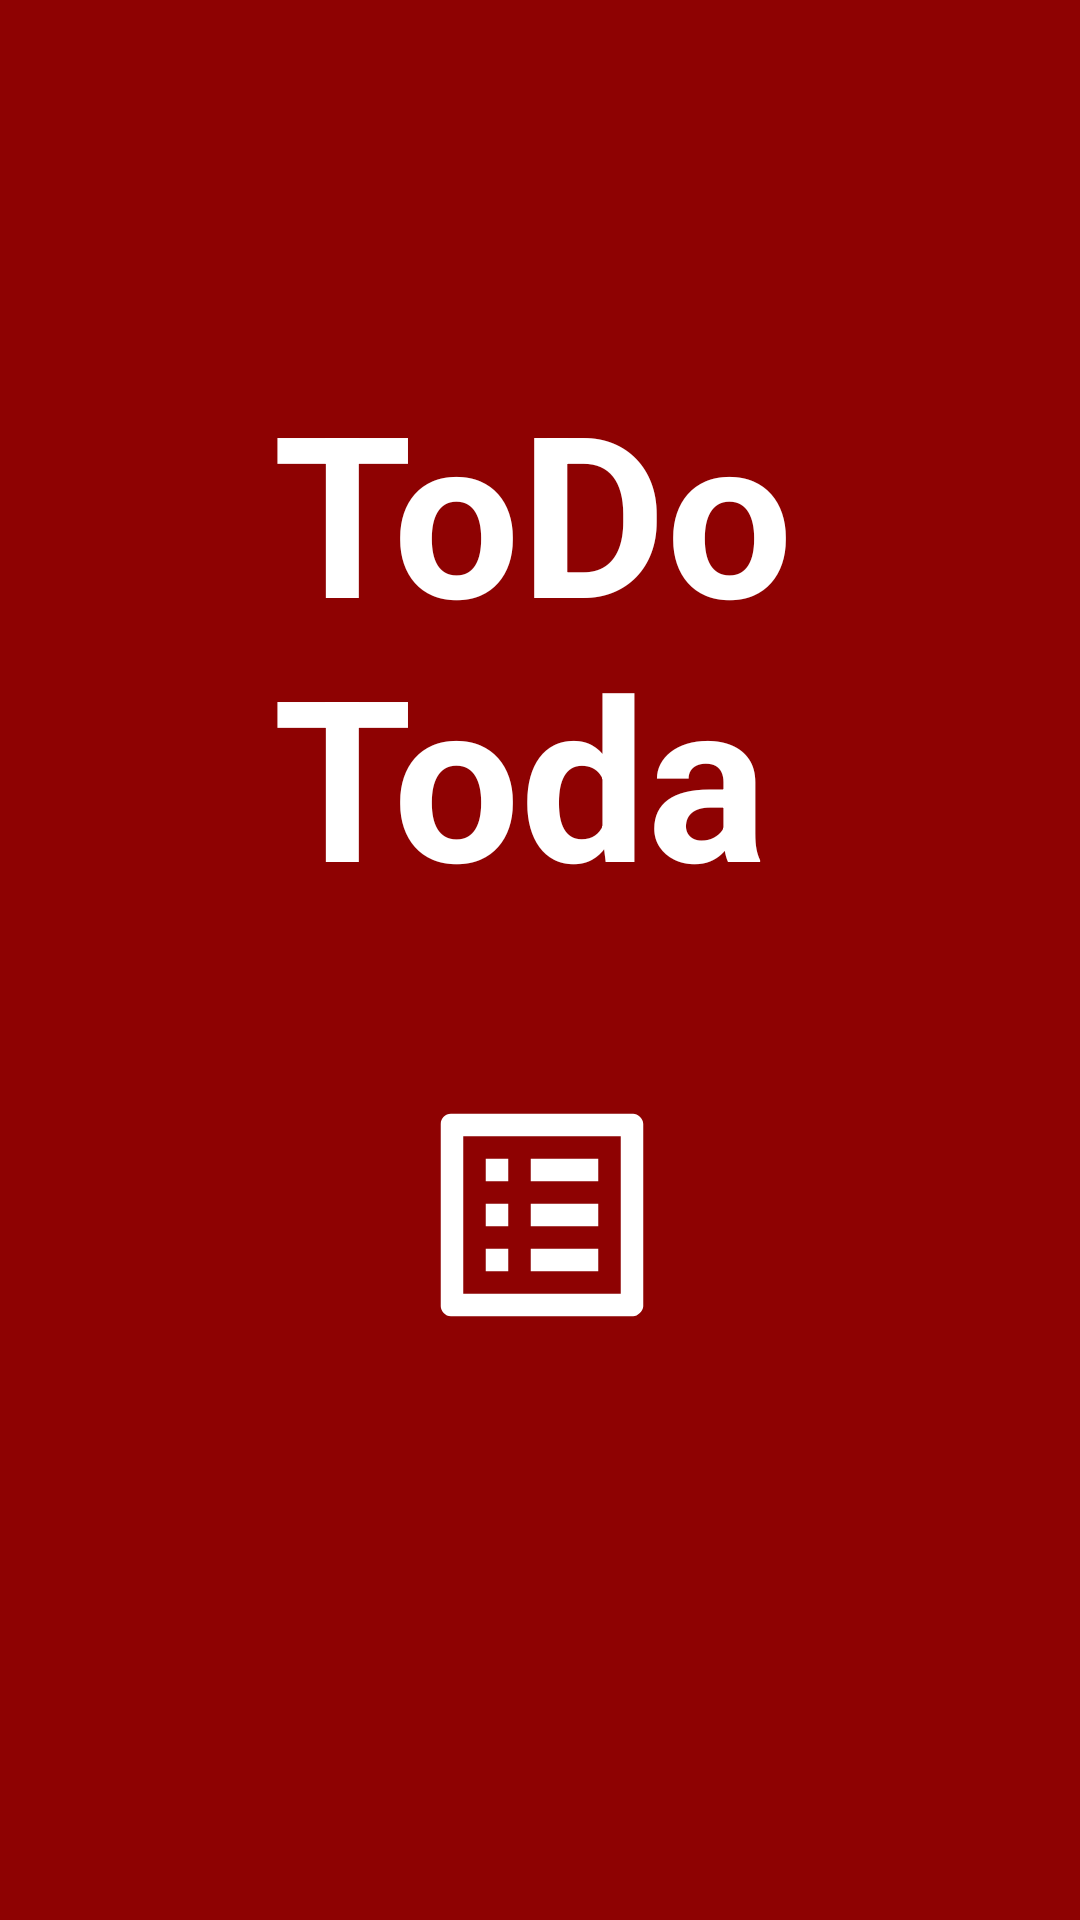

Where icons sit on this 1080×1920 app screen, as {"x1": x1, "y1": y1, "x2": x2, "y2": y2}:
list: {"x1": 440, "y1": 1113, "x2": 644, "y2": 1317}
